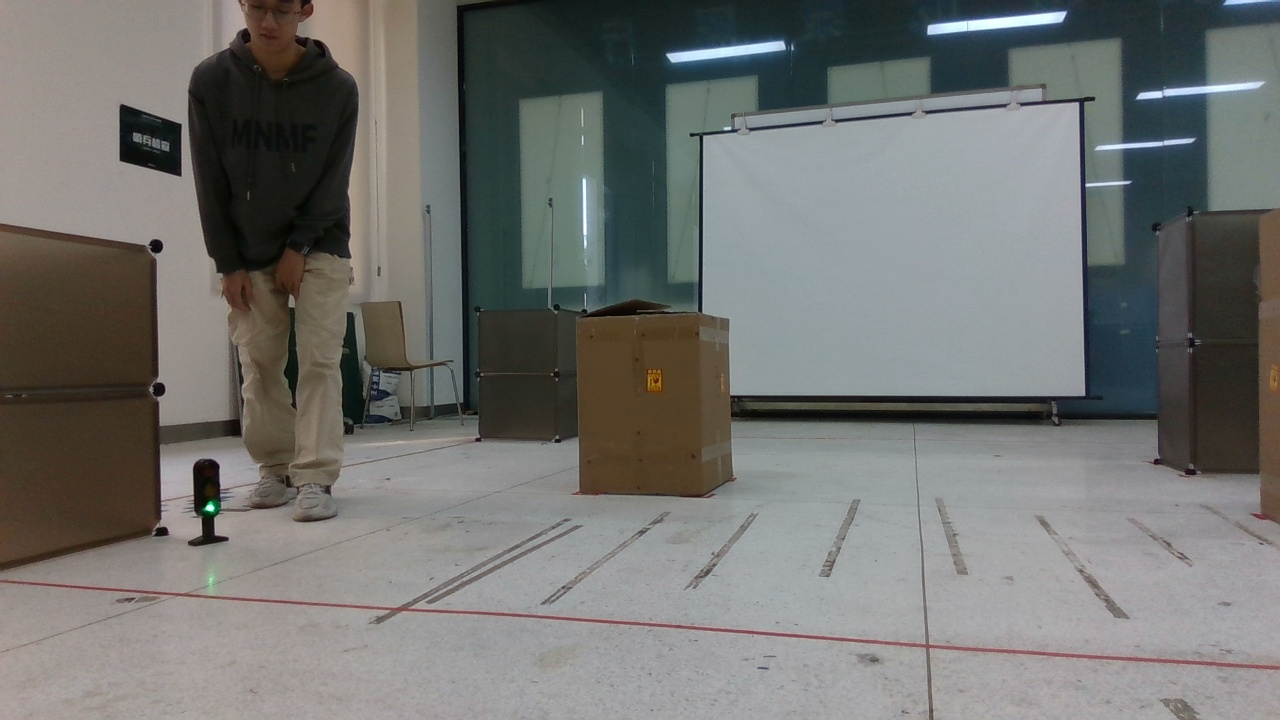green_light: (183, 451, 240, 552)
